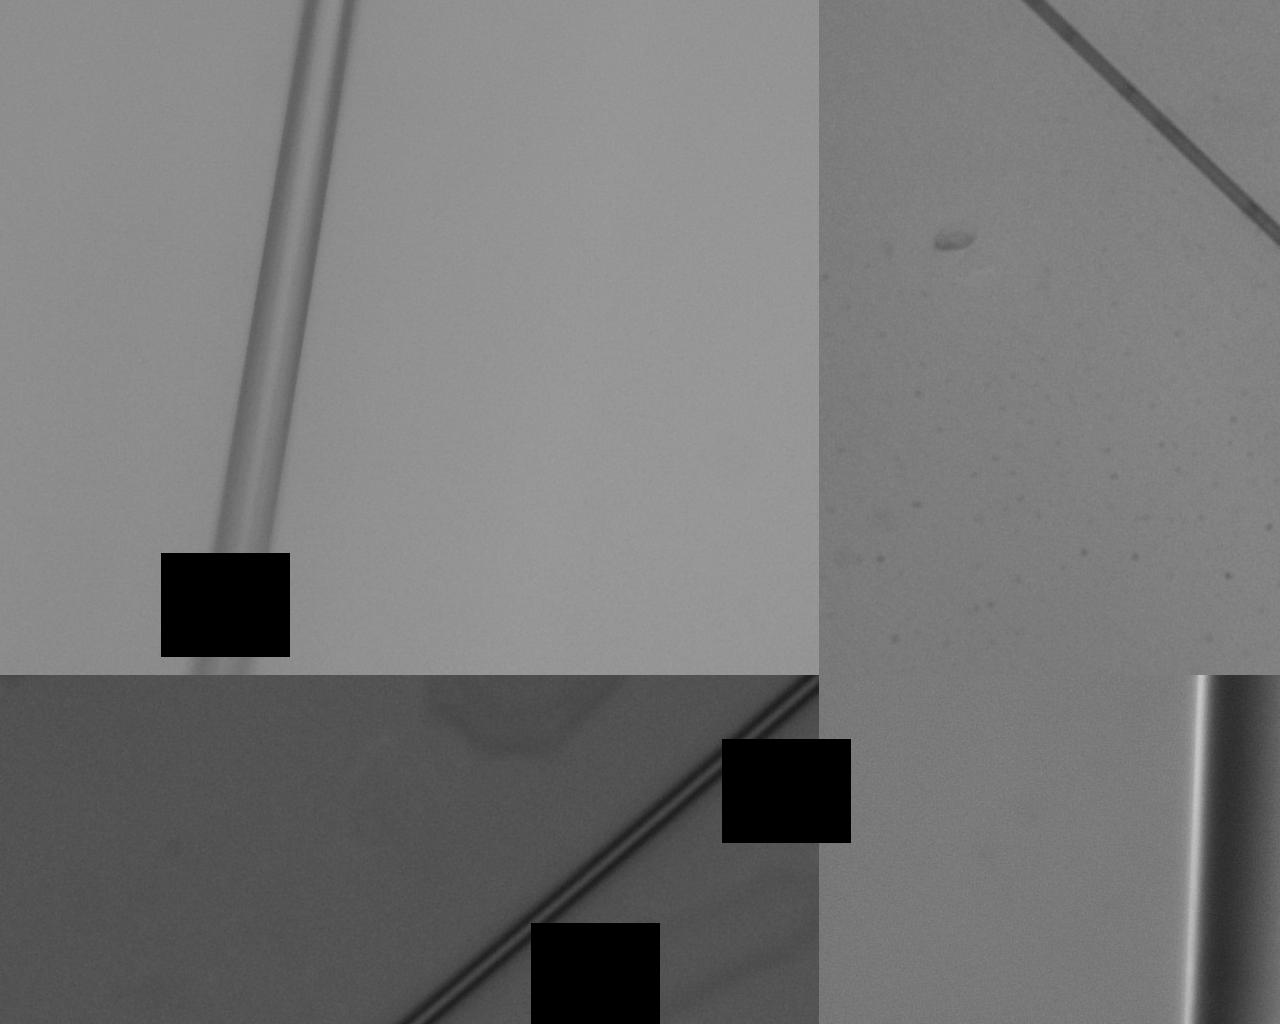fiber: (691, 597, 1280, 956), (0, 881, 637, 977)
